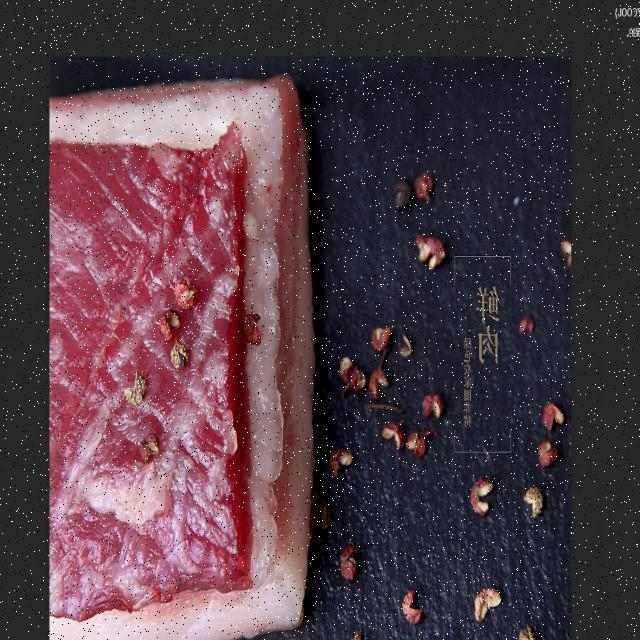pork: (50, 59, 307, 640)
